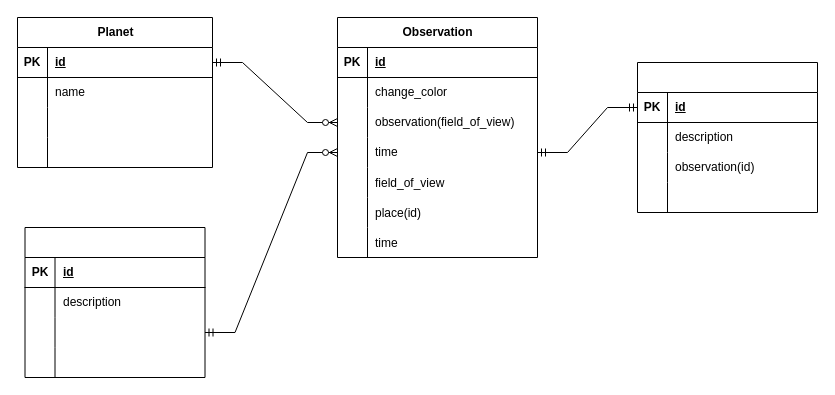
Image size: 835x395. Some labels were removed from this diagram. Here are the shapes that lost their labels. From the top down, the box of each, then its label:
(636, 62, 818, 212): Action
(24, 226, 205, 378): Place
